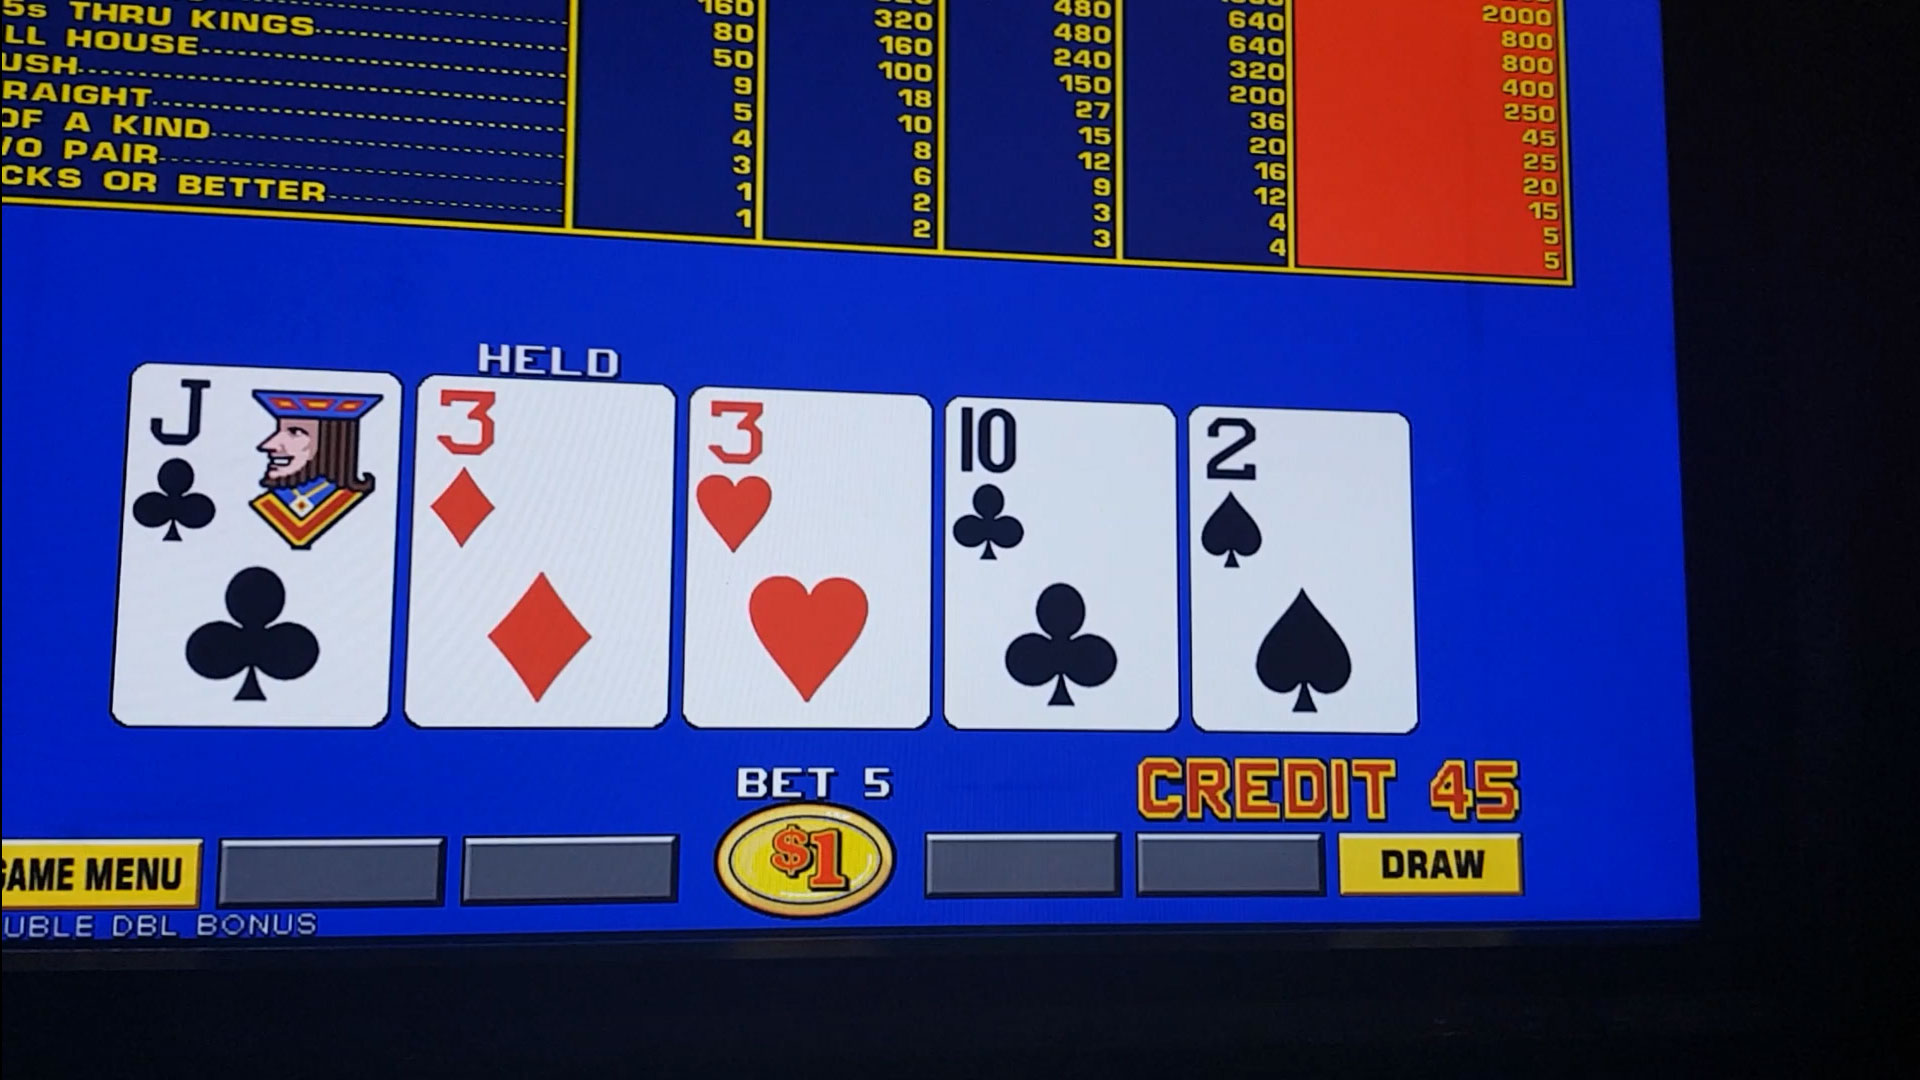CJ: (135, 378, 394, 559)
CT: (945, 407, 1174, 587)
D3: (421, 386, 667, 556)
H3: (692, 401, 924, 564)
S2: (1197, 415, 1403, 579)
